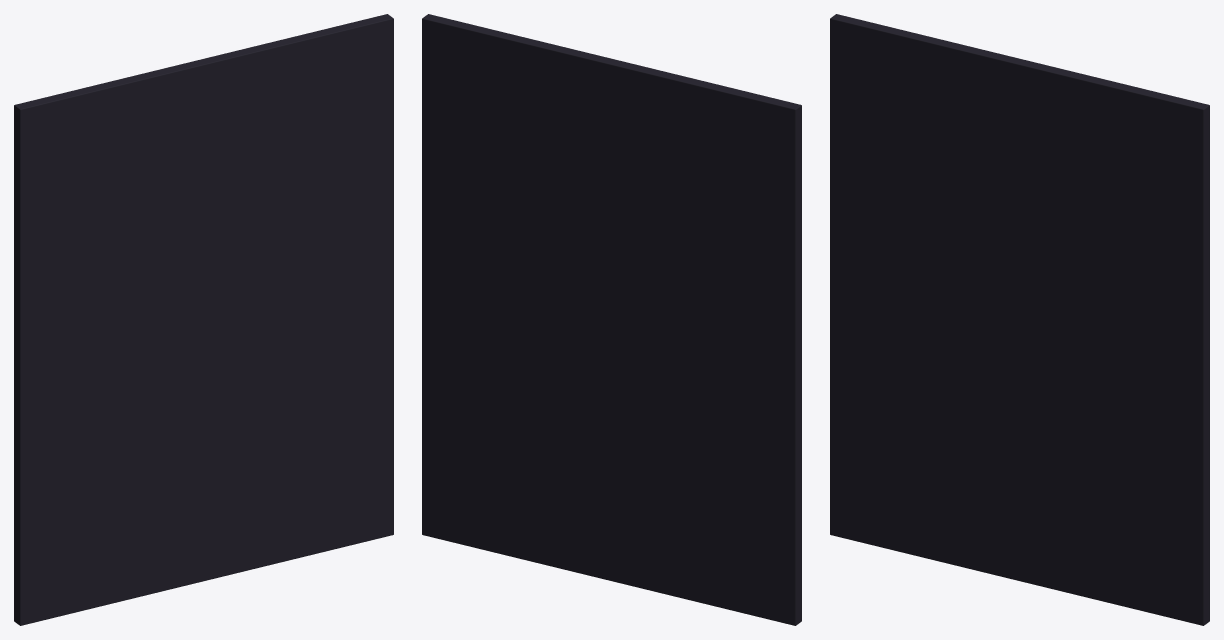
File: SM_Kitchen_Island_Cover_03.dae
3 views of the same model, side by side, from view 1: azimuth 30°, elevation 25°; view 2: azimuth 150°, elevation 25°; view 3: azimuth 330°, elevation 25° (orthographic).
Visible parts, largest first — view 1: SM_Kitchen_Island_Cover_03; view 2: SM_Kitchen_Island_Cover_03; view 3: SM_Kitchen_Island_Cover_03.
Part boxes in pixels (<box>): SM_Kitchen_Island_Cover_03: <box>14,14,393,625</box>; SM_Kitchen_Island_Cover_03: <box>422,14,801,625</box>; SM_Kitchen_Island_Cover_03: <box>830,14,1209,625</box>.
Size of the model in its own units: 0.6798 by 0.02 by 0.8979.
Materials: 1 (1 with a texture image).
